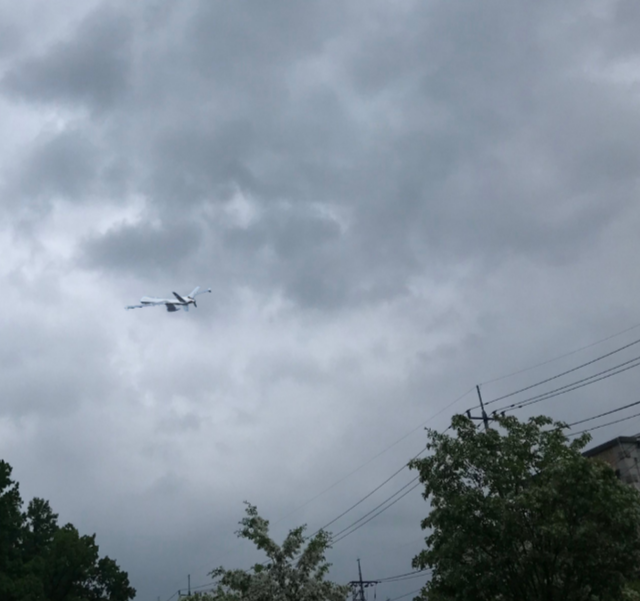military drone: (124, 286, 211, 312)
